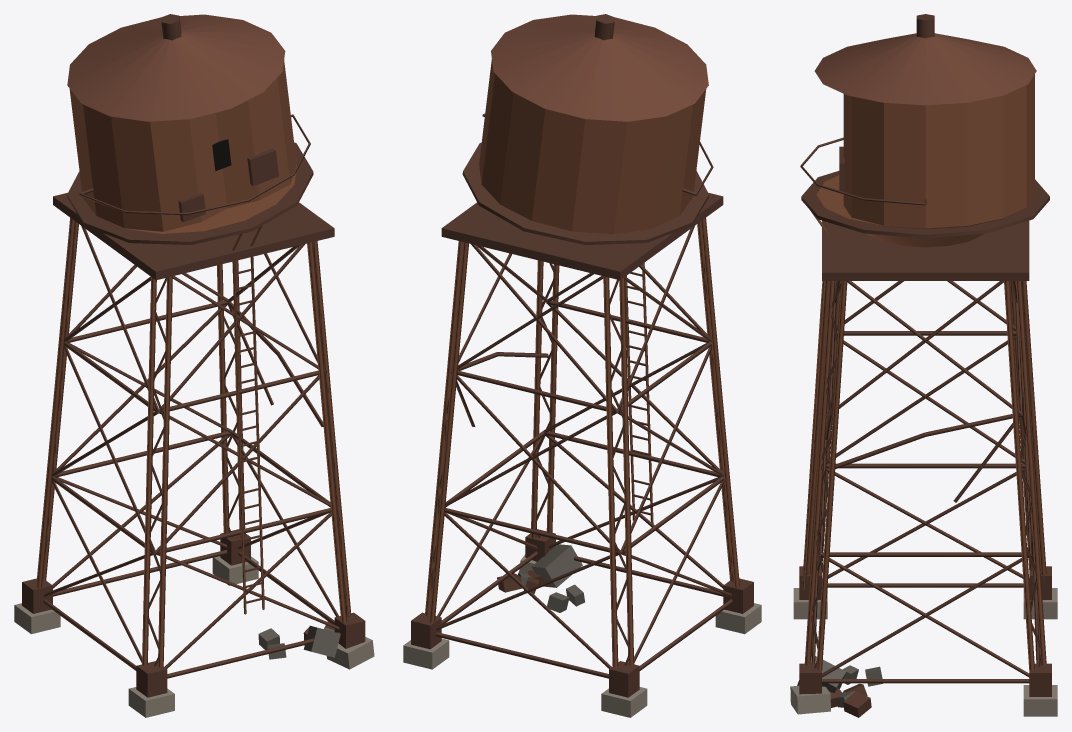
3 renders of one model, left to right at view 1: azimuth 30°, elevation 25°; view 2: azimuth 150°, elevation 25°; view 3: azimuth 270°, elevation 25°, orthographic.
Visible parts, largest first — view 1: site_water_tower_ruin; view 2: site_water_tower_ruin; view 3: site_water_tower_ruin.
Part boxes in pixels (<box>): site_water_tower_ruin: <box>14,14,374,717</box>; site_water_tower_ruin: <box>403,14,761,717</box>; site_water_tower_ruin: <box>790,14,1057,717</box>.
Size of the model in its own units: 7.2 by 18.54 by 7.09.
